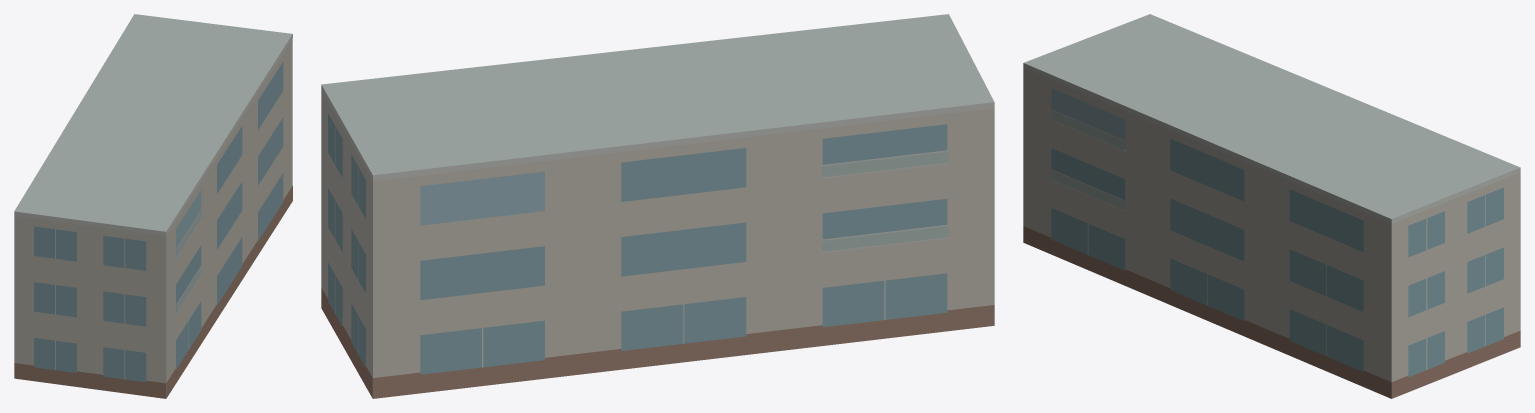
The model's file is survey-upis-33022622.glb.
3 renders of one model, left to right at view 1: azimuth 30°, elevation 25°; view 2: azimuth 150°, elevation 25°; view 3: azimuth 270°, elevation 25°, orthographic. The views are drawn at different scales.
Visible parts, largest first — view 1: survey-upis-33022622.tmp; view 2: survey-upis-33022622.tmp; view 3: survey-upis-33022622.tmp.
Boxes of the visible parts, box(x1,y1,x2,y2) form: survey-upis-33022622.tmp: box(14, 14, 292, 398); survey-upis-33022622.tmp: box(321, 14, 994, 398); survey-upis-33022622.tmp: box(1023, 14, 1520, 398).
Size of the model in its own units: 22.41 by 9.15 by 22.95.
